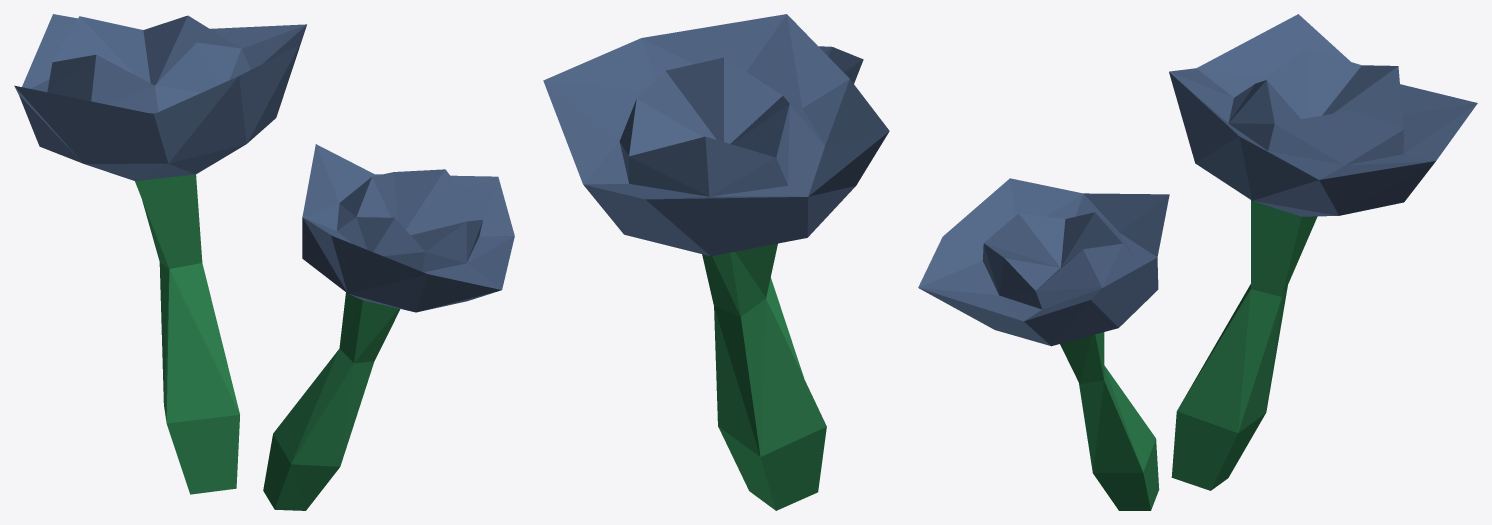
File: SM_Env_Flower_06-optimized.glb
3 views of the same model, side by side, from view 1: azimuth 30°, elevation 25°; view 2: azimuth 150°, elevation 25°; view 3: azimuth 270°, elevation 25° (orthographic). The views are drawn at different scales.
Parts seen in each view (by area): view 1: SM_Env_Flower_06; view 2: SM_Env_Flower_06; view 3: SM_Env_Flower_06.
Part boxes in pixels (<box>): SM_Env_Flower_06: <box>14,14,514,510</box>; SM_Env_Flower_06: <box>543,14,889,510</box>; SM_Env_Flower_06: <box>918,14,1477,510</box>.
Bounding box in the file's own units: 3 × 3.23 × 3.9.
1 material, 1 textured.
